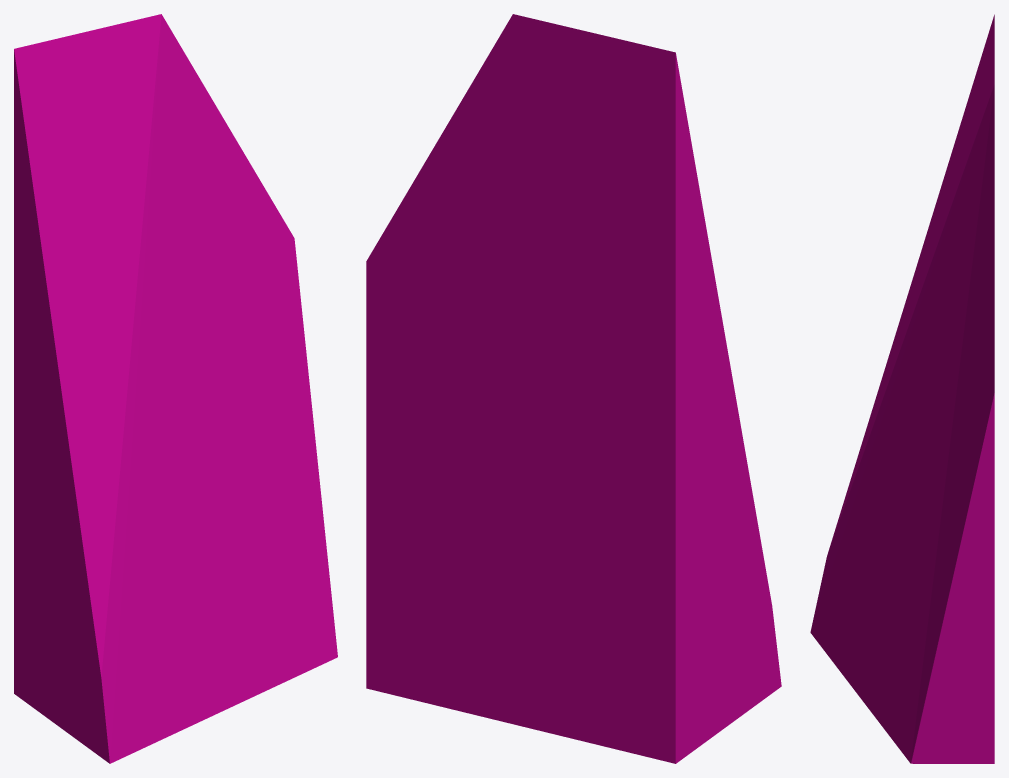
3 views of the same model, side by side, from view 1: azimuth 30°, elevation 25°; view 2: azimuth 150°, elevation 25°; view 3: azimuth 270°, elevation 25° (orthographic). The views are drawn at different scales.
Bounding box in the file's own units: 0.6612 × 1.45 × 0.3918.
